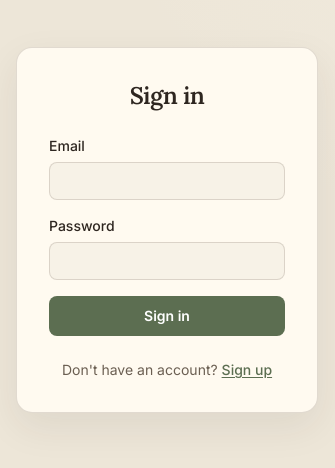
Test case: Error messages with aria-describedby › login form inputs have aria-describedby pointing to the error element when error is shown
Step 1. Type "test@example.com" into the field labelled "Email" → (167, 181), box [49, 162, 285, 200]
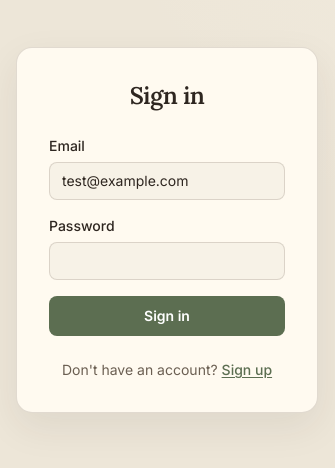
Step 2. Type "wrong-password" into the password field labelled "Password" → (167, 261), box [49, 242, 285, 280]
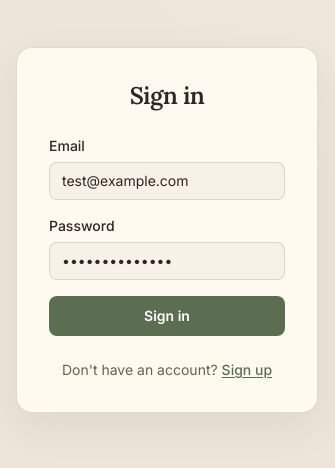
Step 3. Click the button "Sign in" → (167, 316), box [49, 296, 285, 336]
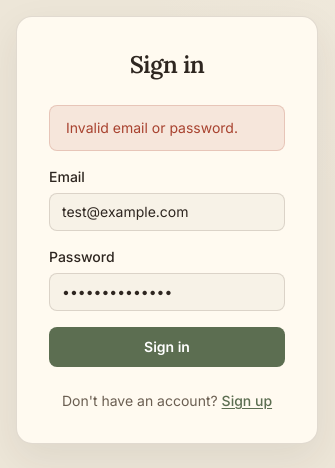
Now the message "Invalid email or password." is shown, box [49, 105, 285, 151]
